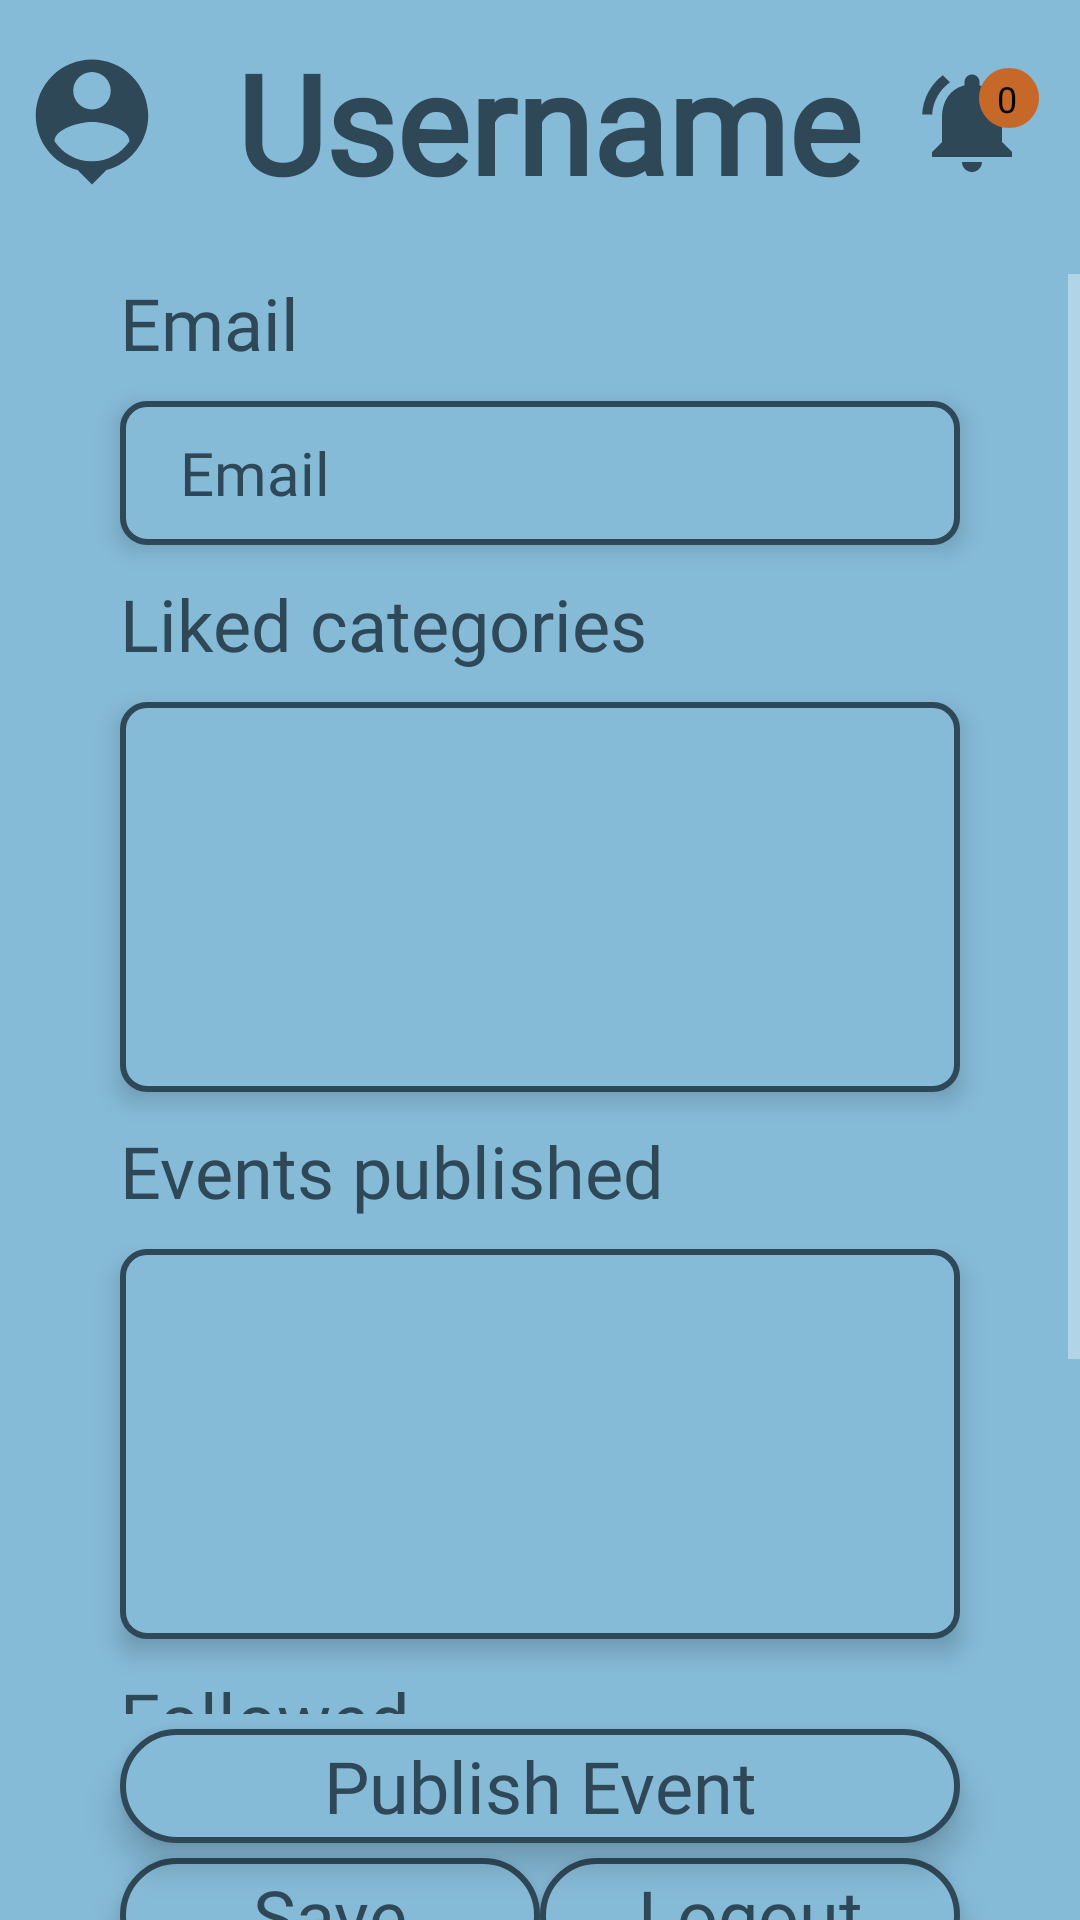

Where icons sit on this 1080×1920 app screen, as (x1, y1, x2, y2):
notifications: (922, 68, 1032, 172)
person pin: (35, 59, 149, 184)
